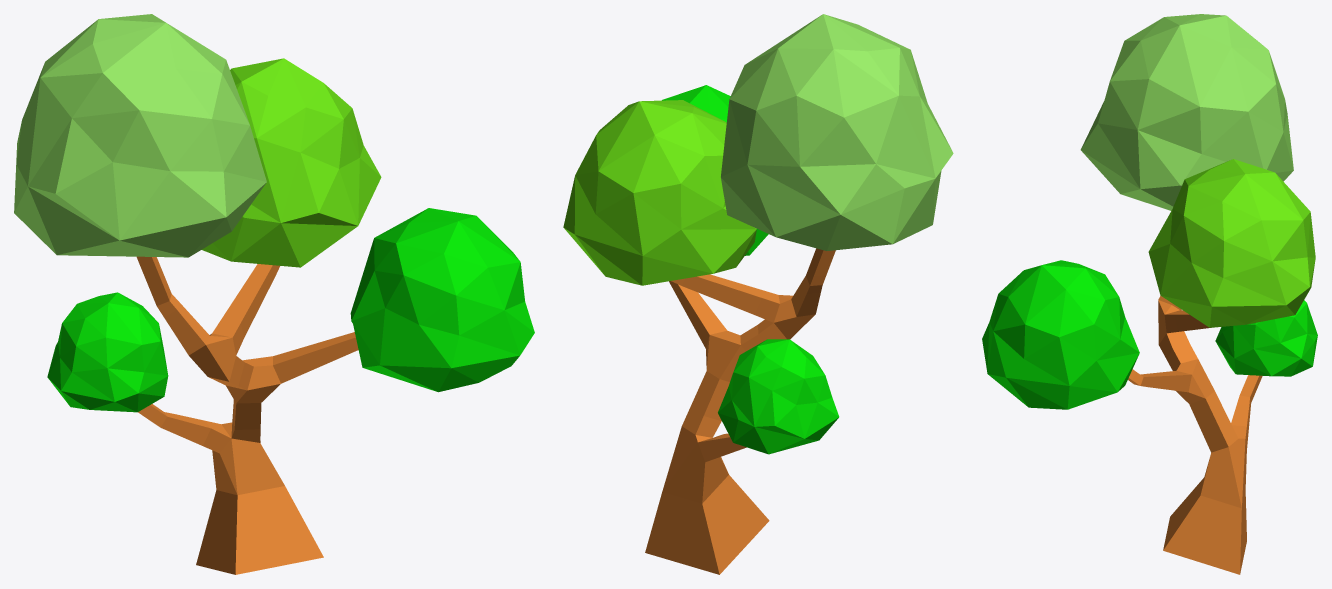
The model's file is Tree.fbx.
3 renders of one model, left to right at view 1: azimuth 30°, elevation 25°; view 2: azimuth 150°, elevation 25°; view 3: azimuth 270°, elevation 25°, orthographic. The views are drawn at different scales.
Parts seen in each view (by area): view 1: Tree; view 2: Tree; view 3: Tree.
Part boxes in pixels (<box>): Tree: <box>14,14,534,574</box>; Tree: <box>563,14,953,574</box>; Tree: <box>982,14,1317,574</box>.
Size of the model in its own units: 1230 by 1687 by 1054.
